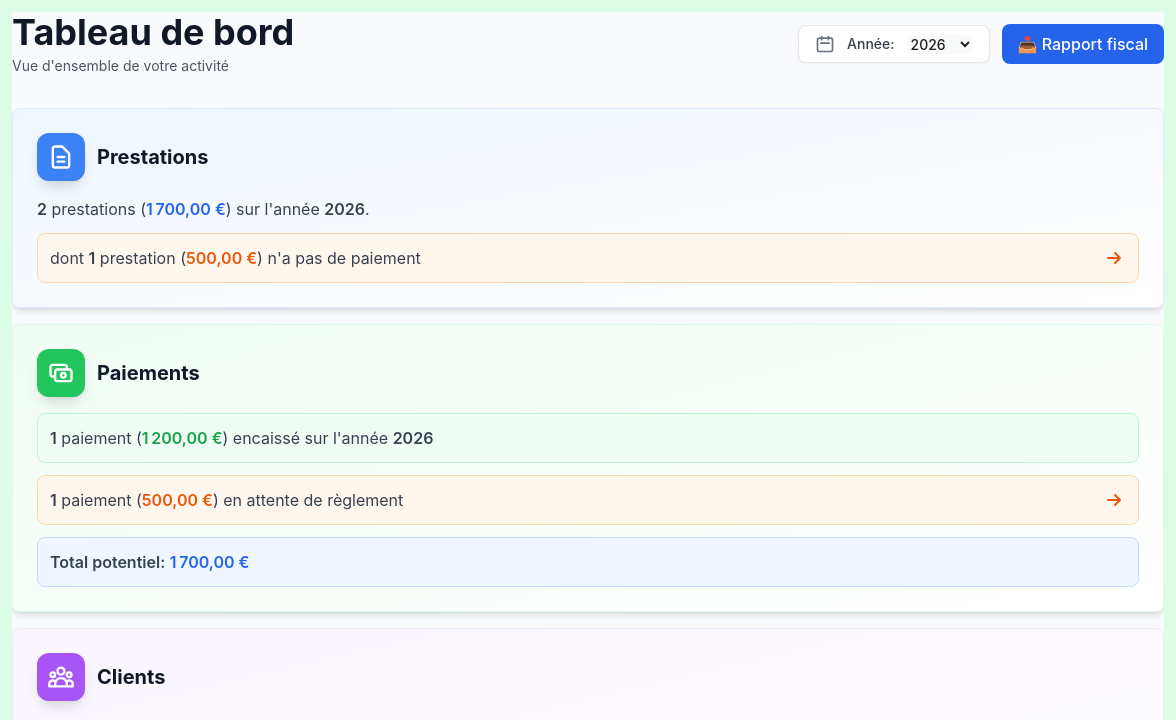
Test: Dashboard › disables the "Rapport fiscal" button when year is "Toutes"
Expected: the button "📥 Rapport fiscal" is enabled, [1002,24,1164,64]
Note: Switch to "Toutes"
Select "Toutes" in the dropdown labelled "Année:" at (940, 44), box [906,34,972,54]
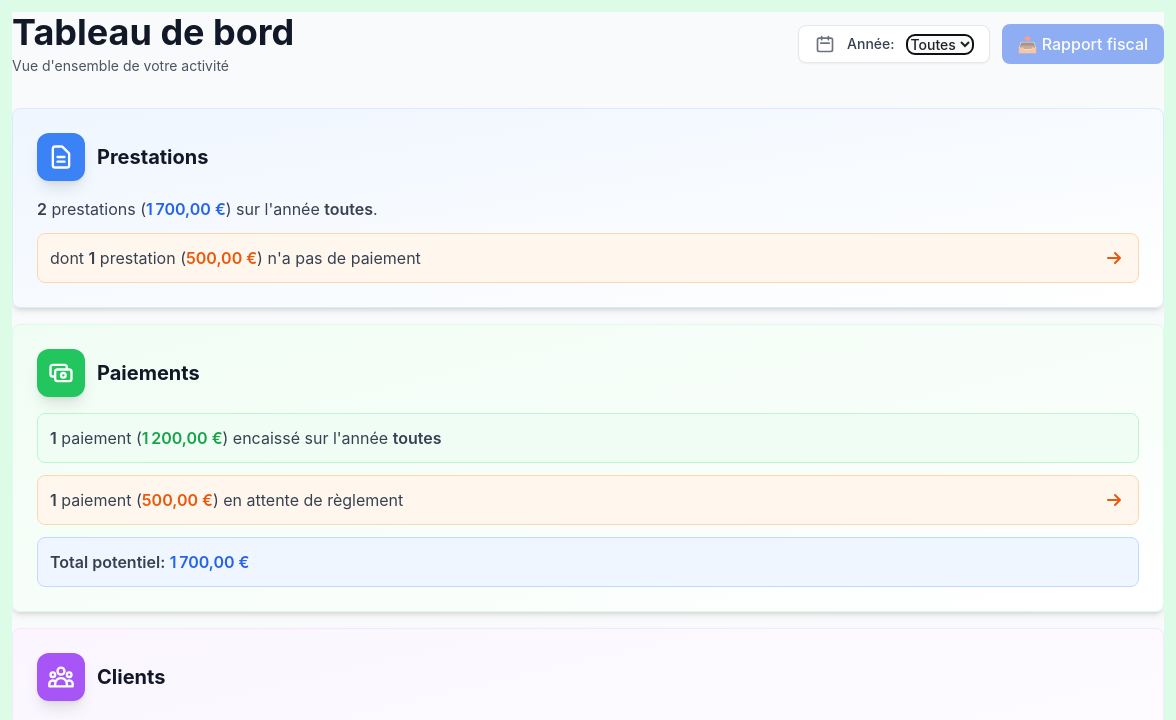
Expected: the button "📥 Rapport fiscal" is disabled, [1002,24,1164,64]
